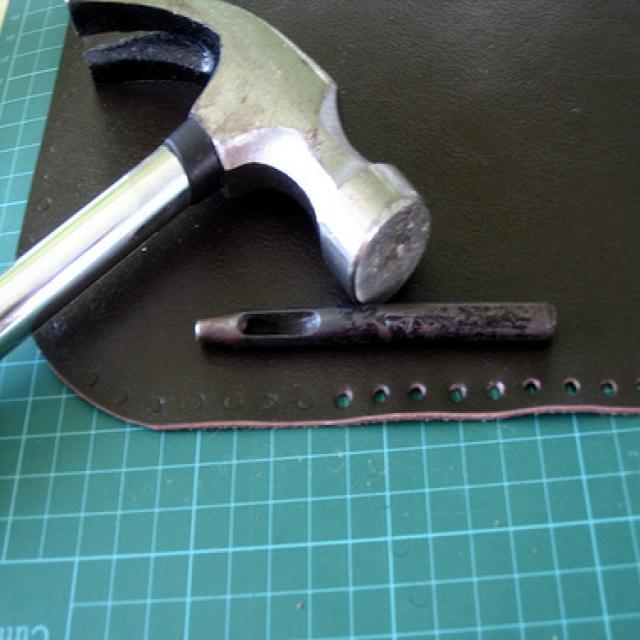hammer: (0, 0, 443, 352)
